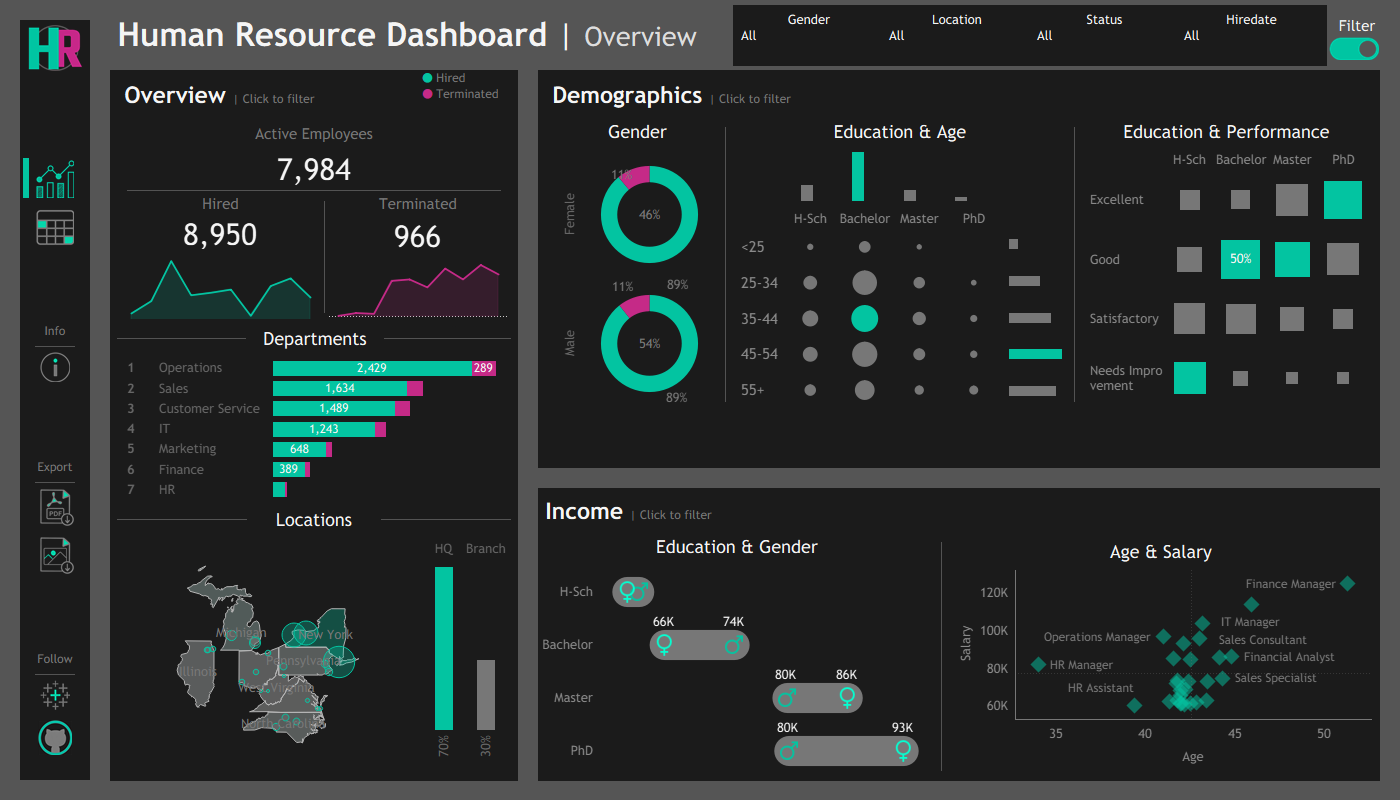

Layout of this report page (visuals, bound fields, positions):
{"tool":"tableau","page":{"name":"HR|Summary","canvas":[1400,800],"ordinal":1},"visuals":[{"type":"blank","box":[90,0,1310,294]},{"type":"text","box":[110,0,681,70]},{"type":"blank","box":[791,0,589,70]},{"type":"filter","title":"Gender vs Education Levels","param":"[federated.16gnvfj1b3mwus125edxu1k4nizk].[none:Gender:nk]","box":[735,7,148,57]},{"type":"filter","title":"Gender vs Education Levels","param":"[federated.16gnvfj1b3mwus125edxu1k4nizk].[none:Calculation_0250744604237828:nk]","box":[883,7,148,57]},{"type":"filter","title":"Gender vs Education Levels","param":"[federated.16gnvfj1b3mwus125edxu1k4nizk].[none:Calculation_0724359589769216:nk]","box":[1031,7,147,57]},{"type":"filter","title":"Gender vs Education Levels","param":"[federated.16gnvfj1b3mwus125edxu1k4nizk].[yr:Hiredate:ok]","box":[1178,7,147,57]},{"type":"text","box":[1323,11,68,29]},{"type":"image","param":"Image/Logo.png","box":[20,20,70,55]},{"type":"dashboard-object","box":[1329,24,50,50]},{"type":"text","box":[419,71,100,32]},{"type":"text","box":[117,77,394,35]},{"type":"text","box":[545,77,828,35]},{"type":"blank","box":[30,85,50,75]},{"type":"text","box":[117,112,394,38]},{"type":"text","box":[550,117,175,29]},{"type":"blank","box":[725,117,1,295]},{"type":"text","box":[731,117,338,29]},{"type":"blank","box":[1074,117,1,295]},{"type":"text","box":[1080,117,293,29]},{"type":"worksheet","title":"Gender","mark":"Pie","rows":["Gender"],"cols":["Calculation_0250744616013832","Calculation_0250744616013832"],"box":[550,146,175,266]},{"type":"worksheet","title":"Education Levels","mark":"Bar","rows":["Calculation_1001985395933184"],"cols":["Education Level"],"box":[731,146,338,59]},{"type":"worksheet","title":"Education vs Performance","mark":"Square","rows":["Performance Rating"],"cols":["Education Level"],"box":[1080,146,293,266]},{"type":"worksheet","title":"BAN Active","mark":"Automatic","box":[117,150,394,40]},{"type":"blank","box":[23,158,6,40]},{"type":"dashboard-object","box":[30,160,50,38]},{"type":"blank","box":[117,190,394,1]},{"type":"text","box":[117,191,207,26]},{"type":"blank","box":[324,191,1,132]},{"type":"text","box":[325,191,185.9,26]},{"type":"blank","box":[30,198,50,10]},{"type":"worksheet","title":"Age VS Education","mark":"Pie","rows":["Calculation_1005834275008514"],"cols":["Education Level"],"box":[731,205,274,207]},{"type":"worksheet","title":"Age Groups","mark":"Bar","rows":["Calculation_1005834275008514"],"cols":["Calculation_1001985395933184"],"box":[1005,205,64,207]},{"type":"dashboard-object","box":[30,208,50,38]},{"type":"worksheet","title":"BAN Hired","mark":"Automatic","box":[117,217,207,36]},{"type":"worksheet","title":"BAN Terminated","mark":"Automatic","box":[325,217,185.9,40]},{"type":"blank","box":[30,246,50,75]},{"type":"worksheet","title":"Hired By Year","mark":"Automatic","rows":["Calculation_1001985395933184","Calculation_1001985395933184"],"cols":["Hiredate"],"box":[117,253,207,70]},{"type":"worksheet","title":"Terminated By Year","mark":"Automatic","rows":["Calculation_1001985396154369","Calculation_1001985396154369"],"cols":["Termdate"],"box":[325,257,185.9,66]},{"type":"text","box":[90,294,1310,288]},{"type":"text","box":[30,321.1,50,20]},{"type":"blank","box":[117,323,129,31]},{"type":"text","box":[246,323,138,31]},{"type":"blank","box":[384,323,127,31]},{"type":"blank","box":[30,341.1,50,11]},{"type":"dashboard-object","box":[30,352.1,50,30]},{"type":"worksheet","title":"Departments","mark":"Bar","rows":["Calculation_0250744602808323","Department"],"cols":["Calculation_1001985395933184"],"box":[117,354,394,150]},{"type":"blank","box":[30,382.1,50,75]},{"type":"text","box":[30,457.1,50,20]},{"type":"blank","box":[30,477.1,50,11]},{"type":"dashboard-object","box":[30,488.1,50,38]},{"type":"text","box":[538,495,842,32]},{"type":"blank","box":[117,504,130,31]},{"type":"text","box":[247,504,134,31]},{"type":"blank","box":[381,504,130,31]},{"type":"blank","box":[30,526.1,50,10]},{"type":"text","box":[538,532,398,29]},{"type":"blank","box":[941,532,1,249]},{"type":"worksheet","title":"Map States","mark":"Automatic","box":[117,535,302.4,239]},{"type":"worksheet","title":"Location","mark":"Bar","rows":["Calculation_1001985395933184"],"cols":["Calculation_0250744604237828","Calculation_1001985395933184"],"box":[419.4,535,91.5,239]},{"type":"dashboard-object","box":[30,536.1,50,38]},{"type":"text","box":[947,537,428,29]},{"type":"worksheet","title":"Gender vs Education Levels","mark":"Square","rows":["Education Level"],"cols":["Salary","Salary"],"box":[538,561,398,220]},{"type":"worksheet","title":"Salary vs Age","mark":"Shape","rows":["Salary"],"cols":["Calculation_1005834274189313"],"box":[947,566,428,210]},{"type":"blank","box":[30,574.1,50,75]},{"type":"blank","box":[90,582,1310,218]},{"type":"text","box":[30,649.2,50,20]},{"type":"blank","box":[30,669.2,50,11]},{"type":"image","param":"Image/contact-public.png","box":[30,680.2,50,30]},{"type":"blank","box":[30,710.2,50,10]},{"type":"image","param":"Image/image.png","box":[30,720.2,50,35]}]}

Visuals, with their boxes in screenshot pixels (x1, y1, x2, y2), scaled from the page's 1400x800 canvas onto the 1400x800 screenshot:
blank: [left=90, top=0, right=1399, bottom=294]
text: [left=110, top=0, right=791, bottom=70]
blank: [left=791, top=0, right=1380, bottom=70]
"Gender vs Education Levels" filter: [left=735, top=7, right=883, bottom=64]
"Gender vs Education Levels" filter: [left=883, top=7, right=1031, bottom=64]
"Gender vs Education Levels" filter: [left=1031, top=7, right=1178, bottom=64]
"Gender vs Education Levels" filter: [left=1178, top=7, right=1325, bottom=64]
text: [left=1323, top=11, right=1391, bottom=40]
image: [left=20, top=20, right=90, bottom=75]
dashboard-object: [left=1329, top=24, right=1379, bottom=74]
text: [left=419, top=71, right=519, bottom=103]
text: [left=117, top=77, right=511, bottom=112]
text: [left=545, top=77, right=1373, bottom=112]
blank: [left=30, top=85, right=80, bottom=160]
text: [left=117, top=112, right=511, bottom=150]
text: [left=550, top=117, right=725, bottom=146]
blank: [left=725, top=117, right=726, bottom=412]
text: [left=731, top=117, right=1069, bottom=146]
blank: [left=1074, top=117, right=1075, bottom=412]
text: [left=1080, top=117, right=1373, bottom=146]
"Gender" worksheet (Pie marks): [left=550, top=146, right=725, bottom=412]
"Education Levels" worksheet (Bar marks): [left=731, top=146, right=1069, bottom=205]
"Education vs Performance" worksheet (Square marks): [left=1080, top=146, right=1373, bottom=412]
"BAN Active" worksheet: [left=117, top=150, right=511, bottom=190]
blank: [left=23, top=158, right=29, bottom=198]
dashboard-object: [left=30, top=160, right=80, bottom=198]
blank: [left=117, top=190, right=511, bottom=191]
text: [left=117, top=191, right=324, bottom=217]
blank: [left=324, top=191, right=325, bottom=323]
text: [left=325, top=191, right=511, bottom=217]
blank: [left=30, top=198, right=80, bottom=208]
"Age VS Education" worksheet (Pie marks): [left=731, top=205, right=1005, bottom=412]
"Age Groups" worksheet (Bar marks): [left=1005, top=205, right=1069, bottom=412]
dashboard-object: [left=30, top=208, right=80, bottom=246]
"BAN Hired" worksheet: [left=117, top=217, right=324, bottom=253]
"BAN Terminated" worksheet: [left=325, top=217, right=511, bottom=257]
blank: [left=30, top=246, right=80, bottom=321]
"Hired By Year" worksheet: [left=117, top=253, right=324, bottom=323]
"Terminated By Year" worksheet: [left=325, top=257, right=511, bottom=323]
text: [left=90, top=294, right=1399, bottom=582]
text: [left=30, top=321, right=80, bottom=341]
blank: [left=117, top=323, right=246, bottom=354]
text: [left=246, top=323, right=384, bottom=354]
blank: [left=384, top=323, right=511, bottom=354]
blank: [left=30, top=341, right=80, bottom=352]
dashboard-object: [left=30, top=352, right=80, bottom=382]
"Departments" worksheet (Bar marks): [left=117, top=354, right=511, bottom=504]
blank: [left=30, top=382, right=80, bottom=457]
text: [left=30, top=457, right=80, bottom=477]
blank: [left=30, top=477, right=80, bottom=488]
dashboard-object: [left=30, top=488, right=80, bottom=526]
text: [left=538, top=495, right=1380, bottom=527]
blank: [left=117, top=504, right=247, bottom=535]
text: [left=247, top=504, right=381, bottom=535]
blank: [left=381, top=504, right=511, bottom=535]
blank: [left=30, top=526, right=80, bottom=536]
text: [left=538, top=532, right=936, bottom=561]
blank: [left=941, top=532, right=942, bottom=781]
"Map States" worksheet: [left=117, top=535, right=419, bottom=774]
"Location" worksheet (Bar marks): [left=419, top=535, right=511, bottom=774]
dashboard-object: [left=30, top=536, right=80, bottom=574]
text: [left=947, top=537, right=1375, bottom=566]
"Gender vs Education Levels" worksheet (Square marks): [left=538, top=561, right=936, bottom=781]
"Salary vs Age" worksheet (Shape marks): [left=947, top=566, right=1375, bottom=776]
blank: [left=30, top=574, right=80, bottom=649]
blank: [left=90, top=582, right=1399, bottom=799]
text: [left=30, top=649, right=80, bottom=669]
blank: [left=30, top=669, right=80, bottom=680]
image: [left=30, top=680, right=80, bottom=710]
blank: [left=30, top=710, right=80, bottom=720]
image: [left=30, top=720, right=80, bottom=755]
